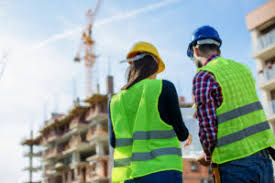helmet: (129, 38, 172, 71), (187, 24, 226, 52)
vest: (201, 63, 275, 159), (111, 82, 182, 176)
